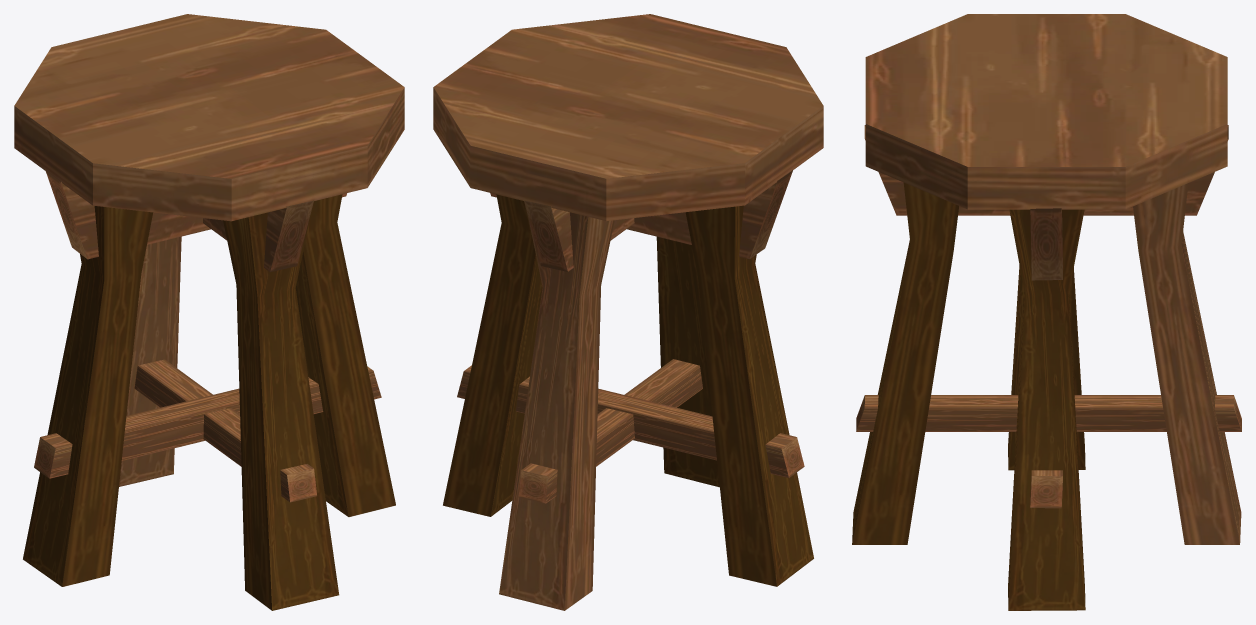
File: Stool.glb
3 renders of one model, left to right at view 1: azimuth 30°, elevation 25°; view 2: azimuth 150°, elevation 25°; view 3: azimuth 270°, elevation 25°, orthographic.
Parts seen in each view (by area): view 1: Stool; view 2: Stool; view 3: Stool.
Boxes of the visible parts, x1=… form: Stool: x1=14, y1=14, x2=404, y2=610; Stool: x1=433, y1=14, x2=823, y2=610; Stool: x1=852, y1=14, x2=1241, y2=610.
Bounding box in the file's own units: 0.4746 × 0.5887 × 0.4746.
Materials: 1 (1 with a texture image).
